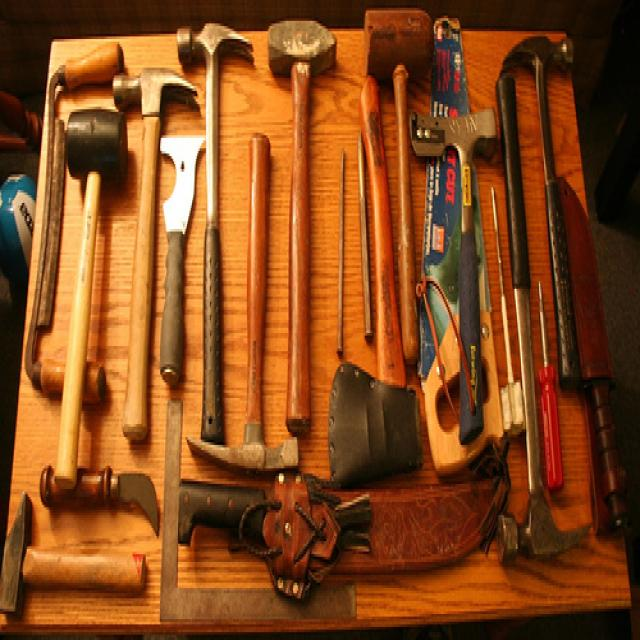hammer: (266, 0, 346, 347), (174, 5, 258, 325), (104, 51, 196, 309)
